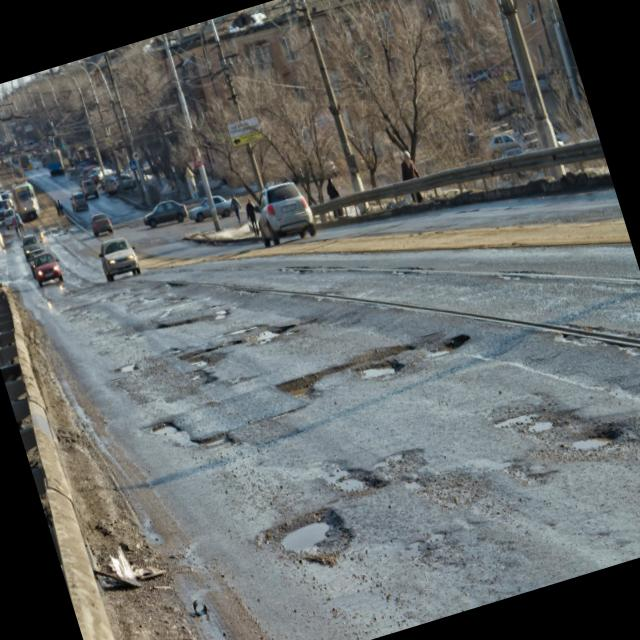Potholes: (486, 358, 638, 500), (250, 478, 379, 598), (136, 389, 244, 481), (265, 367, 340, 428), (416, 316, 484, 369), (351, 340, 408, 401), (236, 307, 302, 357)
